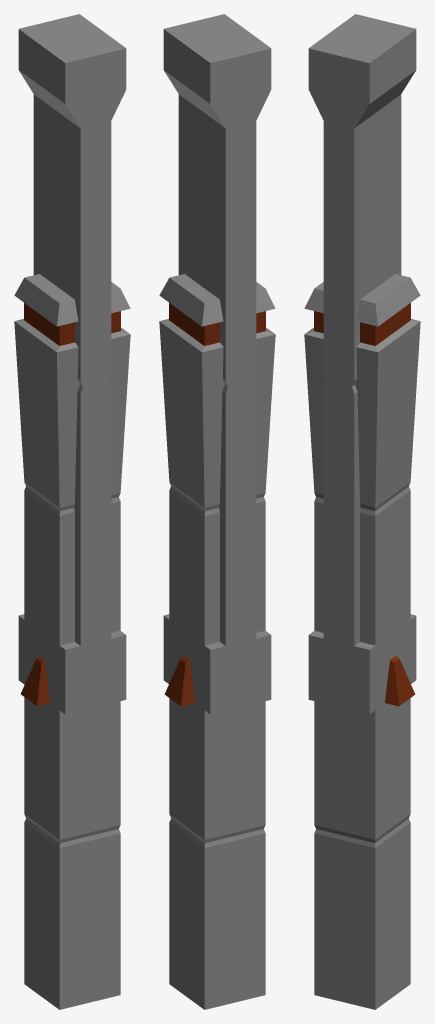
Rendered from WallIPieces.fbx.
The picture shows the model from 3 angles, left to right: view 1: azimuth 30°, elevation 25°; view 2: azimuth 210°, elevation 25°; view 3: azimuth 330°, elevation 25°; orthographic projection.
Visible parts, largest first — view 1: WallPillar, Wall, WallJoint; view 2: WallPillar, Wall, WallJoint, WallBase; view 3: WallPillar, Wall, WallBase, WallJoint.
Part boxes in pixels (x1,y1,x2,y2): WallPillar: (14, 274, 130, 1009); Wall: (18, 14, 126, 714); WallJoint: (35, 26, 108, 672); WallPillar: (159, 274, 275, 1009); Wall: (163, 14, 271, 714); WallJoint: (180, 26, 253, 634); WallBase: (169, 620, 204, 709); WallPillar: (304, 274, 420, 1009); Wall: (308, 14, 416, 714); WallBase: (375, 620, 410, 709); WallJoint: (326, 26, 397, 287).
Size of the model in its own units: 217 by 2234 by 200.
